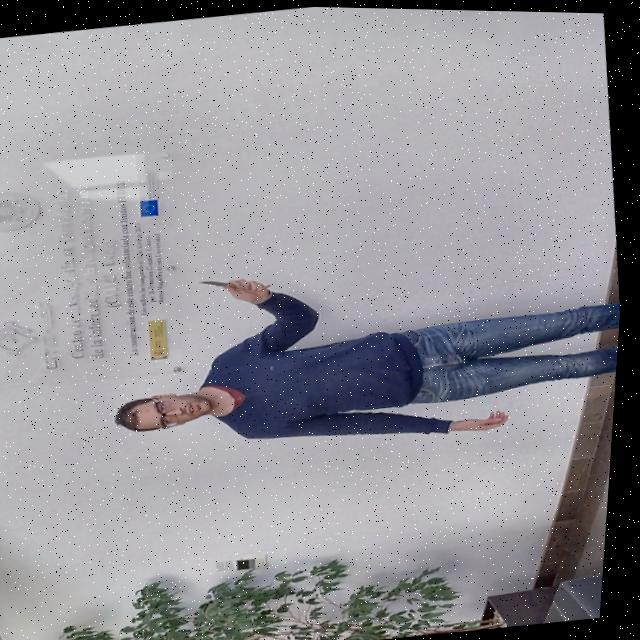knife: (201, 274, 248, 292)
